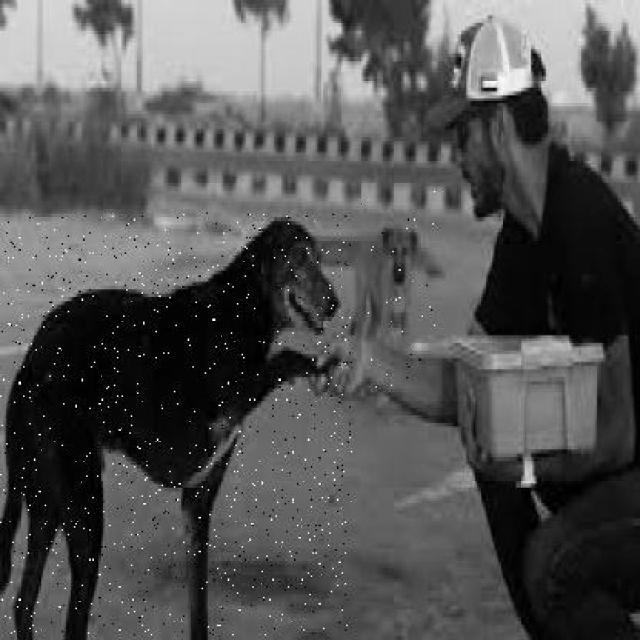Dog: (0, 212, 354, 637), (355, 191, 436, 391)
